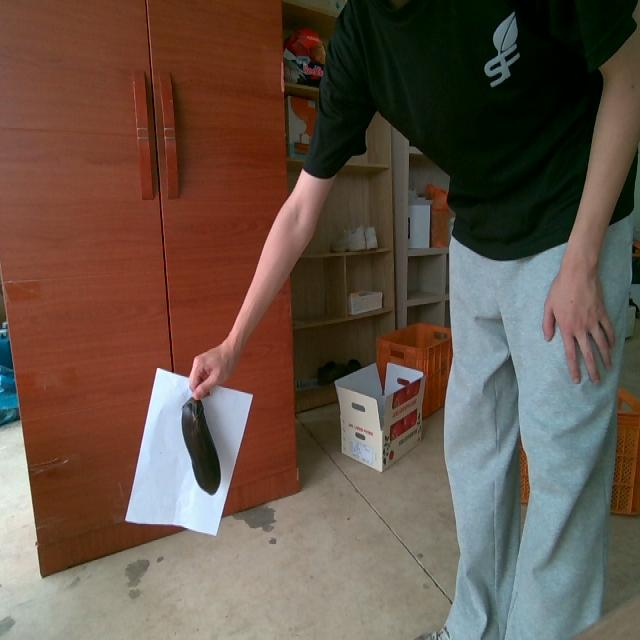Egg plant: (182, 397, 220, 493)
